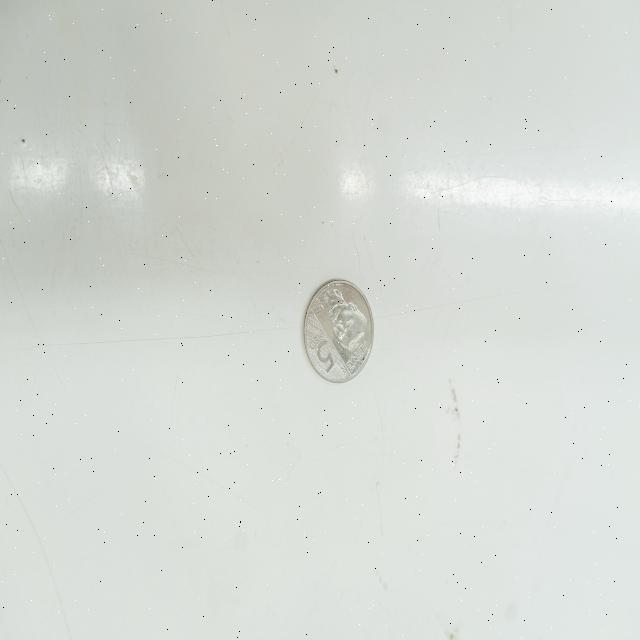5 peso: (292, 271, 383, 394)
